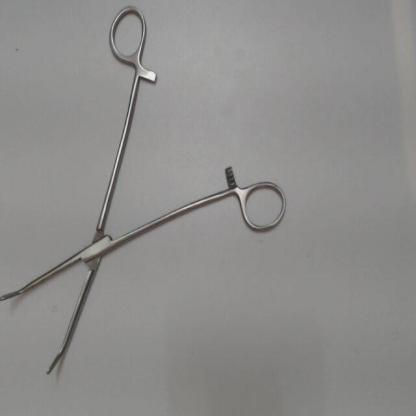Lahey Forceps: (1, 1, 291, 382)
